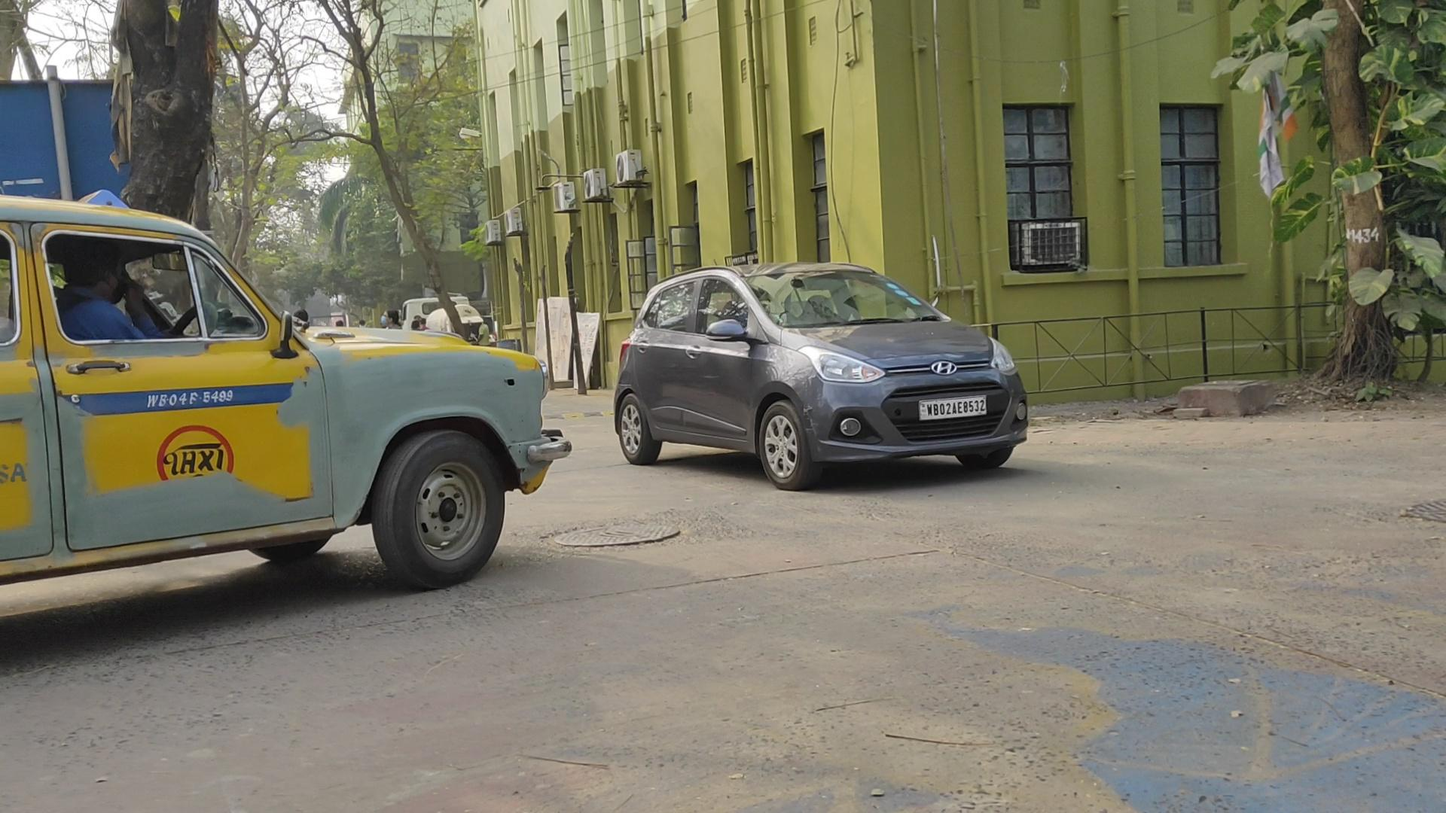car: (1, 187, 572, 590), (613, 261, 1030, 491)
